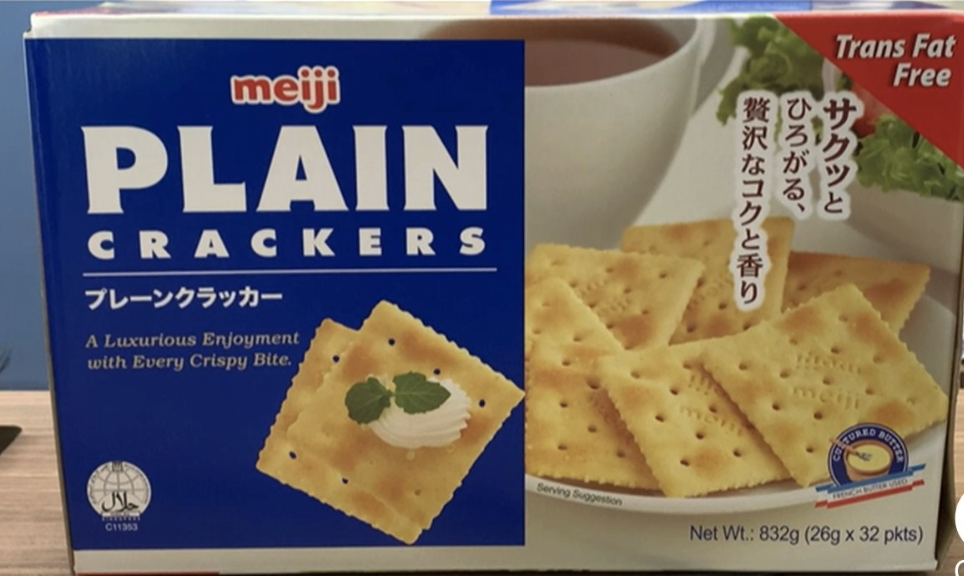crackers_550g: (82, 29, 953, 565)
